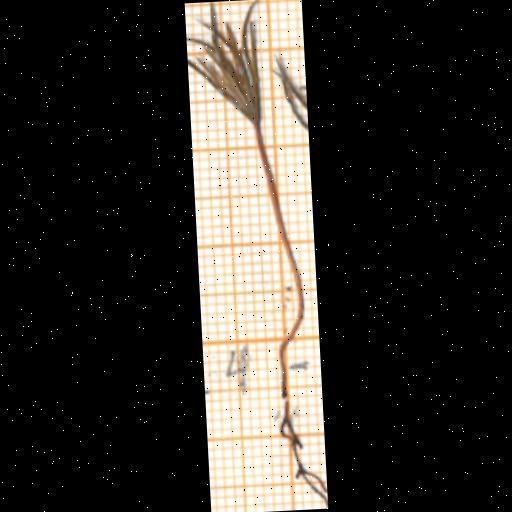flowerPinus: (189, 0, 260, 123)
rootPinus: (280, 368, 326, 507)
stemPinus: (254, 123, 305, 367)
